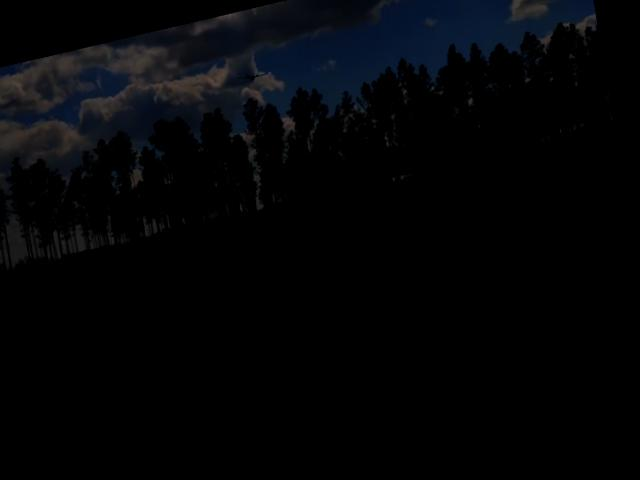plane: (239, 67, 270, 84)
